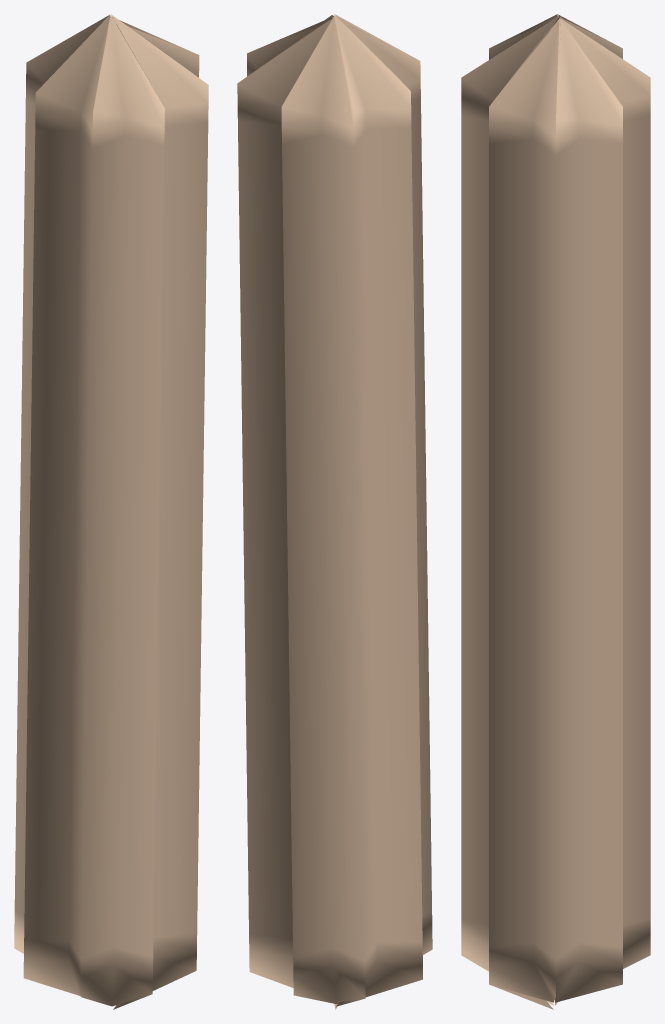
Rendered from Pour.obj.
3 renders of one model, left to right at view 1: azimuth 30°, elevation 25°; view 2: azimuth 150°, elevation 25°; view 3: azimuth 270°, elevation 25°, orthographic.
Visible parts, largest first — view 1: NurbsPath; view 2: NurbsPath; view 3: NurbsPath.
Part boxes in pixels (<box>): NurbsPath: <box>14,14,208,1009</box>; NurbsPath: <box>237,14,432,1009</box>; NurbsPath: <box>461,14,650,1009</box>.
Bounding box in the file's own units: 0.1335 × 0.7217 × 0.1243.
Materials: 1 (1 with a texture image).
